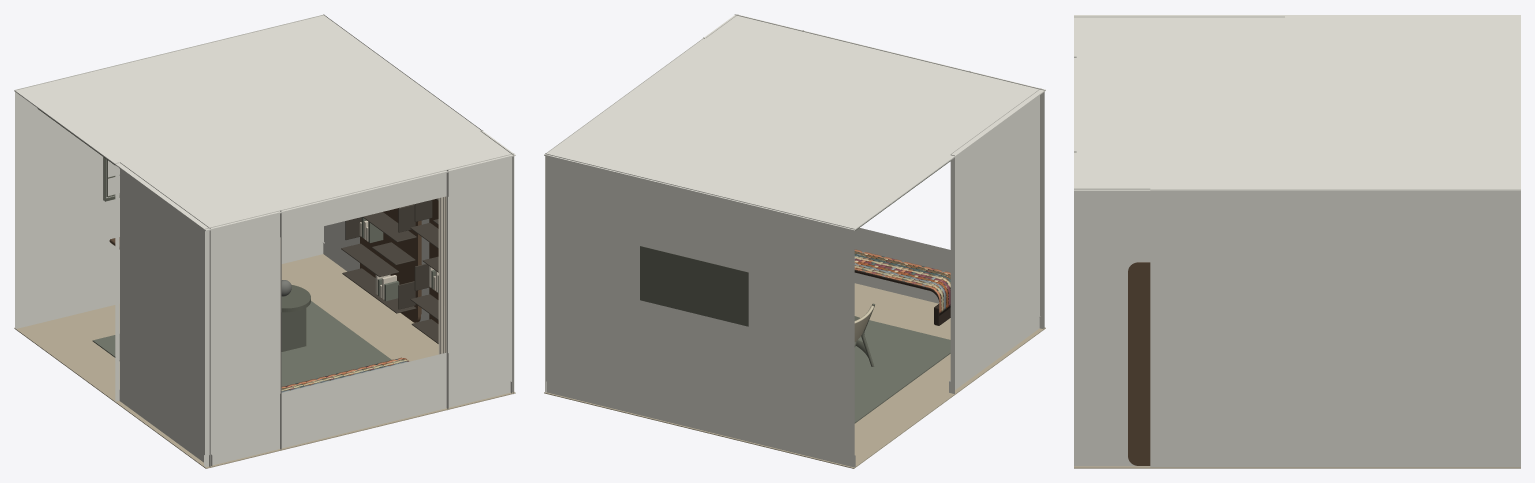
File: formal-2.glb
3 views of the same model, side by side, from view 1: azimuth 30°, elevation 25°; view 2: azimuth 150°, elevation 25°; view 3: azimuth 270°, elevation 25° (orthographic). The views are drawn at different scales.
Parts seen in each view (by area): view 1: DESIGN | formal removable wall finish, DESIGN | formal ceiling finish, DESIGN | formal floor finish, DESIGN | Required Blabla bookcase 2, DESIGN | Formal ground, DESIGN | Required Blabla bookcase 1, DESIGN | Formal soft window edge.001, DESIGN | Object examination table trestle, DESIGN | Required Brera anniversary window bench, DESIGN | Object examination table top; view 2: DESIGN | formal removable wall finish, DESIGN | formal ceiling finish, DESIGN | formal floor finish, DESIGN | Quiet artwork frame, DESIGN | Formal ground, DESIGN | Required Brera anniversary window bench, DESIGN | Archive reading chair; view 3: DESIGN | formal removable wall finish, DESIGN | formal ceiling finish, DESIGN | Required Blabla bookcase 1, DESIGN | formal floor finish.
Boxes of the visible parts, left/top/right/bottom form: DESIGN | formal removable wall finish: left=15, top=14, right=514, bottom=466; DESIGN | formal ceiling finish: left=14, top=15, right=515, bottom=231; DESIGN | formal floor finish: left=14, top=254, right=515, bottom=468; DESIGN | Required Blabla bookcase 2: left=341, top=204, right=421, bottom=322; DESIGN | Formal ground: left=92, top=301, right=391, bottom=386; DESIGN | Required Blabla bookcase 1: left=410, top=198, right=438, bottom=343; DESIGN | Formal soft window edge.001: left=438, top=196, right=446, bottom=354; DESIGN | Object examination table trestle: left=281, top=308, right=306, bottom=351; DESIGN | Required Brera anniversary window bench: left=281, top=357, right=409, bottom=392; DESIGN | Object examination table top: left=281, top=284, right=310, bottom=312; DESIGN | formal removable wall finish: left=545, top=14, right=1044, bottom=467; DESIGN | formal ceiling finish: left=544, top=14, right=1045, bottom=231; DESIGN | formal floor finish: left=544, top=283, right=1045, bottom=468; DESIGN | Quiet artwork frame: left=640, top=246, right=748, bottom=326; DESIGN | Formal ground: left=854, top=320, right=950, bottom=423; DESIGN | Required Brera anniversary window bench: left=854, top=249, right=950, bottom=325; DESIGN | Archive reading chair: left=854, top=303, right=874, bottom=366; DESIGN | formal removable wall finish: left=1074, top=16, right=1520, bottom=467; DESIGN | formal ceiling finish: left=1074, top=15, right=1520, bottom=191; DESIGN | Required Blabla bookcase 1: left=1128, top=262, right=1150, bottom=465; DESIGN | formal floor finish: left=1074, top=466, right=1520, bottom=468.
Size of the model in its own units: 3.71 by 2.74 by 3.98.
